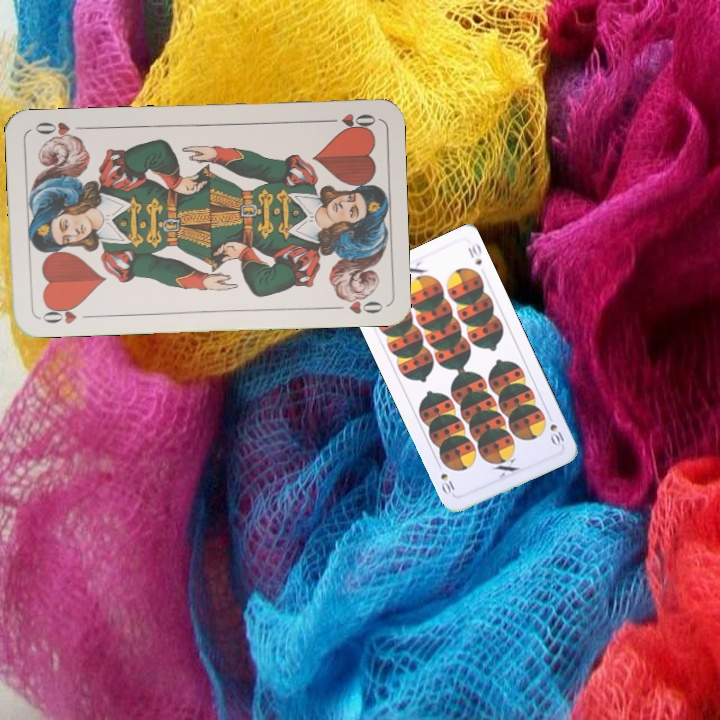HO: (36, 301, 95, 326), (319, 110, 378, 133)
S10: (543, 410, 568, 449)
